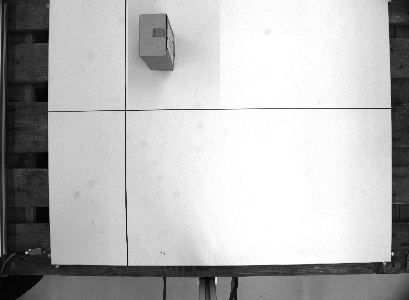b6: (136, 9, 178, 74)
